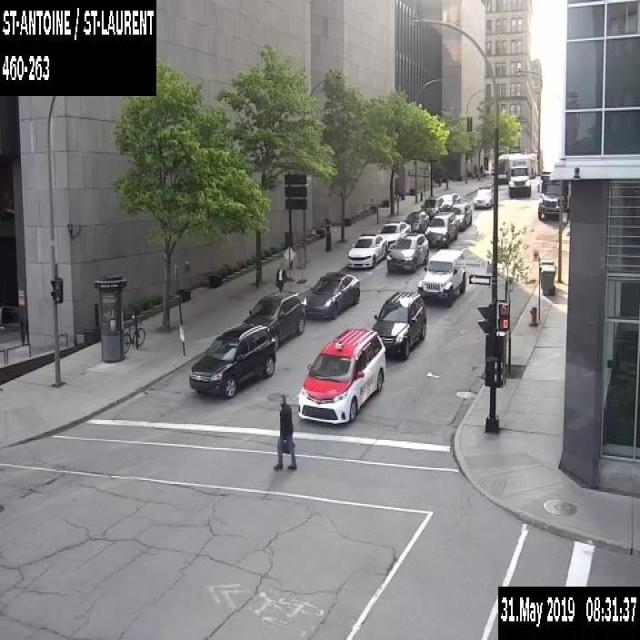bus: (497, 151, 538, 182)
pedestrian: (273, 394, 295, 469), (274, 262, 286, 290), (473, 163, 477, 176), (480, 162, 482, 175)
vehicle: (297, 327, 385, 423), (188, 323, 276, 398), (240, 289, 305, 349), (370, 291, 426, 358), (417, 248, 465, 304), (302, 270, 360, 316), (386, 232, 428, 271), (537, 169, 568, 218), (347, 232, 387, 268), (424, 210, 457, 247), (377, 219, 411, 250), (508, 153, 531, 196), (420, 195, 444, 220), (449, 202, 471, 229), (405, 210, 429, 232), (474, 186, 494, 208), (441, 191, 459, 210)
